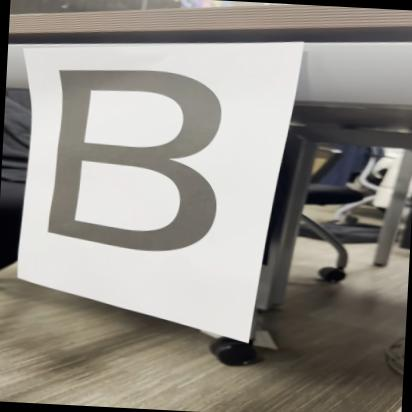seat: (34, 54, 244, 270)
